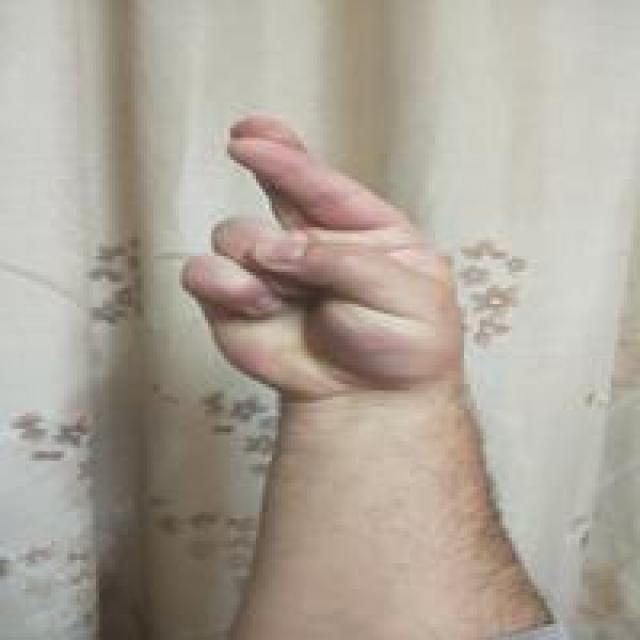R: (170, 109, 467, 400)
